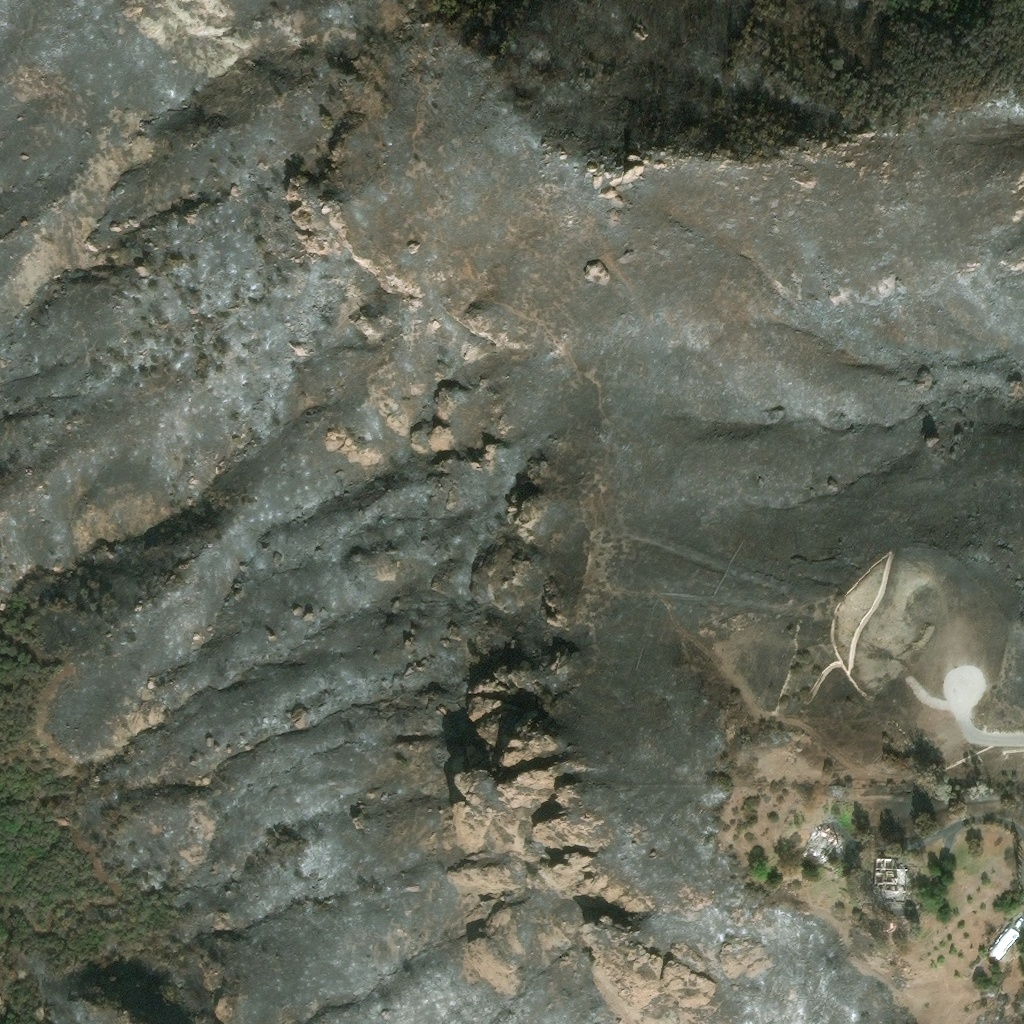0 no-damage: (987, 926, 1023, 966)
3 destroyed: (871, 859, 909, 907), (806, 821, 844, 862), (885, 917, 908, 942)
